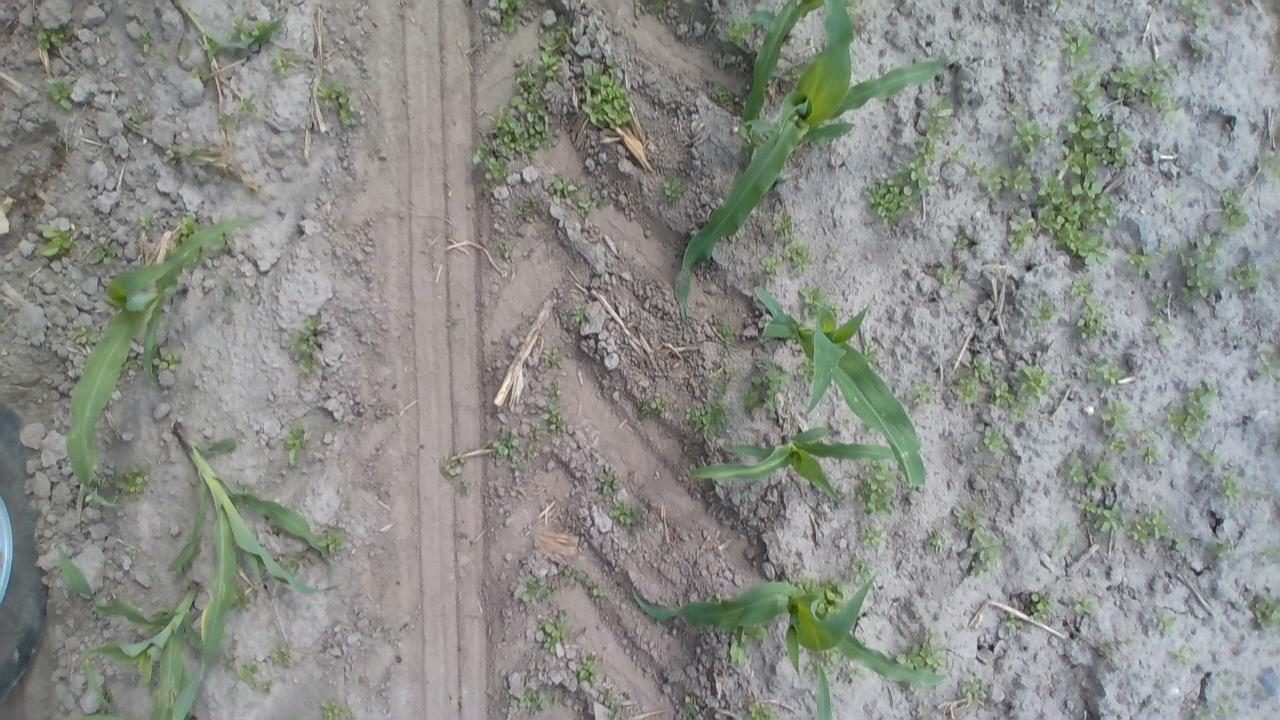Maize: (668, 0, 952, 327), (66, 218, 262, 507), (167, 416, 333, 720), (624, 566, 950, 682), (750, 282, 926, 492), (51, 543, 206, 719), (689, 426, 890, 501), (744, 0, 824, 119), (168, 0, 288, 64), (810, 665, 834, 720)
Weeds: (1036, 170, 1116, 267), (495, 60, 550, 156), (1062, 108, 1132, 170), (1109, 60, 1179, 121), (865, 167, 931, 228), (954, 148, 1033, 194), (958, 503, 1002, 578), (1166, 377, 1216, 442), (584, 69, 632, 129), (1006, 98, 1054, 154), (742, 359, 788, 417), (912, 93, 947, 166), (897, 628, 945, 672), (856, 462, 894, 514), (292, 314, 322, 375), (1178, 232, 1225, 269), (686, 400, 732, 437), (318, 81, 354, 126), (1076, 498, 1122, 533), (538, 24, 564, 84), (180, 138, 228, 170), (472, 146, 508, 188), (1058, 24, 1092, 67), (1064, 68, 1104, 104), (809, 578, 848, 614), (1128, 510, 1169, 542), (722, 10, 754, 50), (1077, 297, 1106, 340), (560, 564, 598, 594), (116, 465, 150, 498), (1017, 365, 1050, 399), (542, 612, 570, 652), (36, 22, 74, 50), (1222, 186, 1250, 224), (1100, 397, 1132, 430), (39, 226, 73, 257), (543, 382, 563, 432), (284, 422, 306, 466), (770, 207, 796, 244), (1230, 262, 1262, 292), (1059, 454, 1087, 488), (281, 548, 317, 574), (1028, 296, 1055, 330), (124, 94, 152, 126), (1188, 264, 1214, 298), (661, 175, 688, 207), (629, 0, 670, 21), (1010, 215, 1036, 248), (784, 244, 812, 274), (152, 346, 182, 374), (935, 263, 963, 292), (264, 46, 293, 74), (799, 285, 824, 317), (220, 636, 242, 672), (1098, 360, 1126, 388), (584, 183, 612, 211), (980, 428, 1009, 455), (1090, 460, 1116, 490), (520, 578, 550, 604), (1124, 248, 1156, 272), (1026, 592, 1053, 620), (538, 345, 566, 372), (494, 430, 520, 459), (1178, 0, 1208, 25), (1003, 609, 1026, 641), (49, 79, 73, 109), (1253, 595, 1275, 627), (516, 194, 542, 221), (630, 402, 657, 428), (960, 680, 988, 705), (499, 1, 523, 30), (322, 697, 353, 719), (754, 252, 782, 276), (1216, 474, 1242, 499), (1078, 354, 1103, 380), (1069, 274, 1095, 299), (271, 642, 294, 670), (1252, 349, 1274, 378), (91, 242, 121, 263), (860, 522, 884, 548), (990, 382, 1014, 408), (730, 636, 750, 666), (745, 701, 778, 719), (707, 363, 735, 384), (520, 687, 543, 712), (236, 663, 259, 688), (926, 528, 948, 554), (234, 582, 252, 613), (237, 94, 260, 118), (957, 376, 979, 401), (176, 216, 198, 240), (320, 529, 342, 553), (1256, 153, 1277, 178), (1054, 522, 1074, 548), (850, 554, 870, 580), (70, 324, 96, 344), (1186, 34, 1208, 57), (610, 503, 634, 524), (1194, 446, 1220, 465), (720, 323, 737, 352), (1137, 446, 1164, 464), (909, 384, 930, 407), (1168, 648, 1192, 668), (681, 693, 700, 718), (970, 360, 991, 382), (716, 87, 738, 108), (228, 10, 243, 40), (134, 213, 156, 233), (550, 178, 574, 196), (160, 142, 178, 166), (603, 689, 623, 710), (576, 660, 597, 680), (822, 243, 842, 264), (597, 474, 619, 493), (1156, 611, 1174, 634), (574, 198, 592, 221), (1108, 436, 1128, 456), (1138, 422, 1159, 441), (1011, 400, 1030, 421), (442, 458, 464, 476), (797, 358, 813, 381), (137, 31, 153, 54), (1074, 596, 1094, 614), (1216, 702, 1238, 718), (949, 232, 972, 247), (862, 342, 879, 362), (458, 479, 474, 500), (1190, 705, 1212, 720), (189, 60, 204, 82), (819, 649, 840, 664), (1156, 240, 1170, 262), (528, 420, 546, 437), (1172, 533, 1188, 552), (650, 397, 669, 413), (500, 241, 514, 262), (1260, 546, 1276, 564), (202, 40, 216, 60), (1153, 330, 1176, 342), (1156, 291, 1168, 313), (1214, 542, 1230, 557), (251, 17, 265, 34), (572, 306, 585, 324), (508, 462, 527, 474), (709, 312, 722, 328), (524, 442, 536, 459), (445, 318, 460, 330), (259, 678, 271, 692), (605, 711, 623, 720), (1222, 678, 1233, 692), (157, 51, 168, 64), (1151, 312, 1162, 324), (290, 717, 302, 720)
